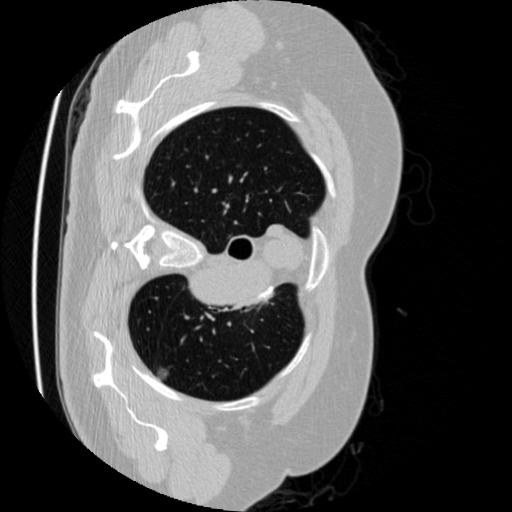nodule: (155, 365, 173, 383)
